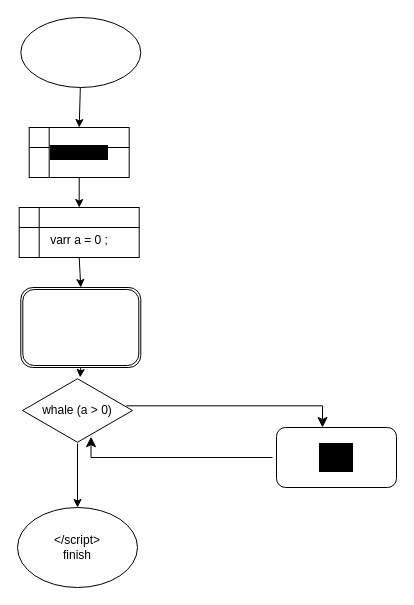
Image size: 414x605. Some labels were removed from this diagram. Each missing label, with the box of its shape:
a = ввод: (20, 286, 141, 368)
start <script>: (20, 16, 141, 88)
